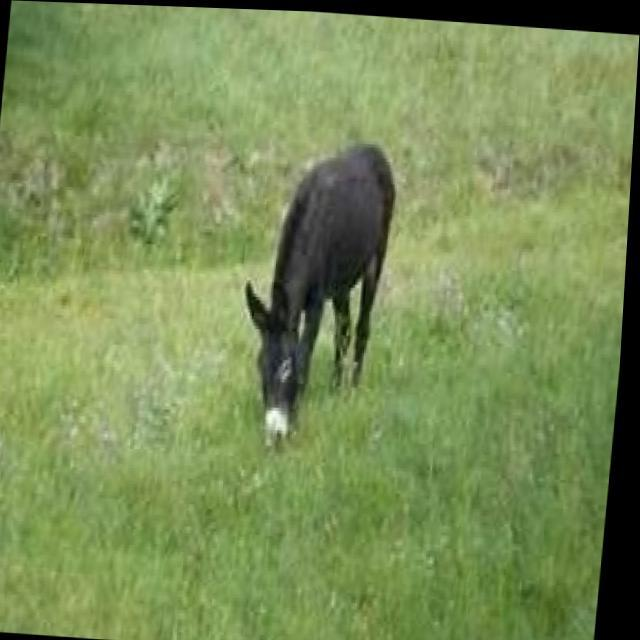Donkey: (160, 32, 420, 510)
